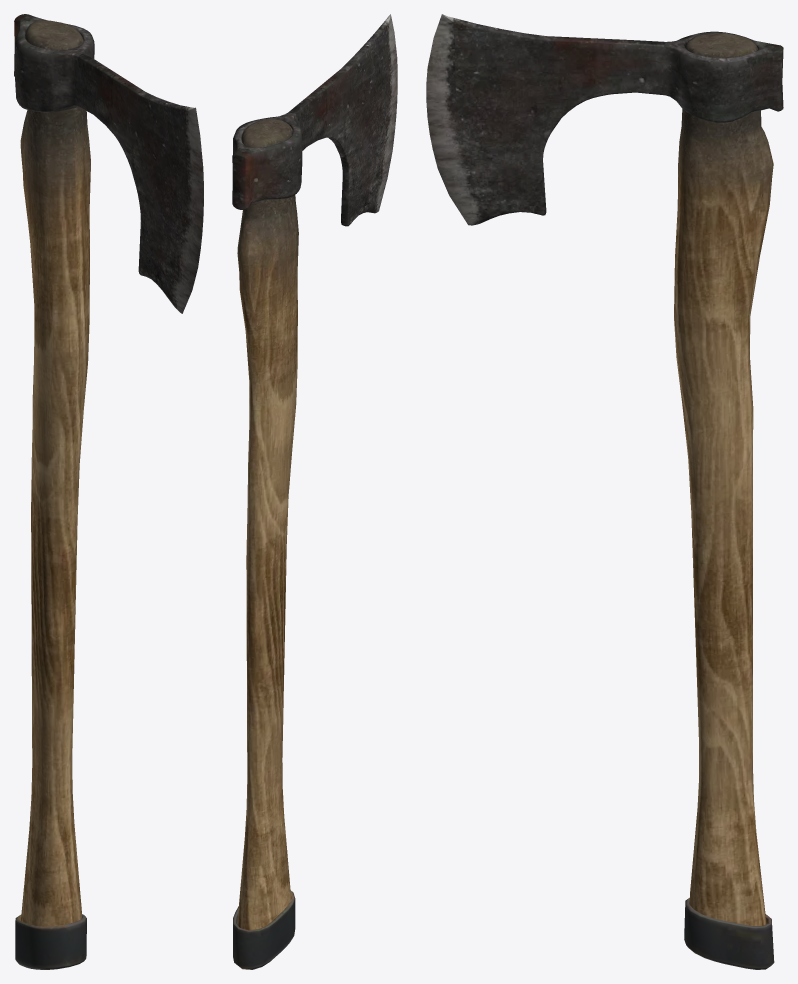
File: hacha.glb
3 views of the same model, side by side, from view 1: azimuth 30°, elevation 25°; view 2: azimuth 150°, elevation 25°; view 3: azimuth 270°, elevation 25° (orthographic). The views are drawn at different scales.
Visible parts, largest first — view 1: wooden_axe_1k(Clone); view 2: wooden_axe_1k(Clone); view 3: wooden_axe_1k(Clone).
Boxes of the visible parts, x1=… form: wooden_axe_1k(Clone): x1=14, y1=14, x2=203, y2=969; wooden_axe_1k(Clone): x1=232, y1=14, x2=397, y2=969; wooden_axe_1k(Clone): x1=426, y1=14, x2=783, y2=969.
Bounding box in the file's own units: 0.0472 × 0.6303 × 0.2143.
1 material, 1 textured.
